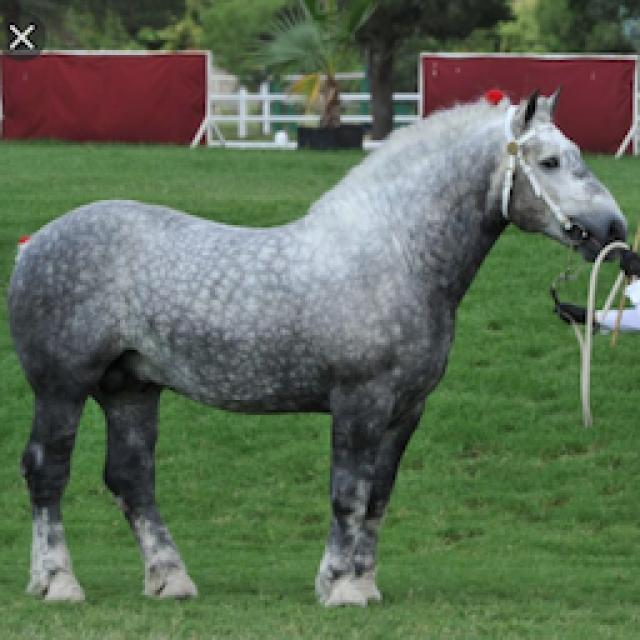Horse: (0, 80, 638, 612)
